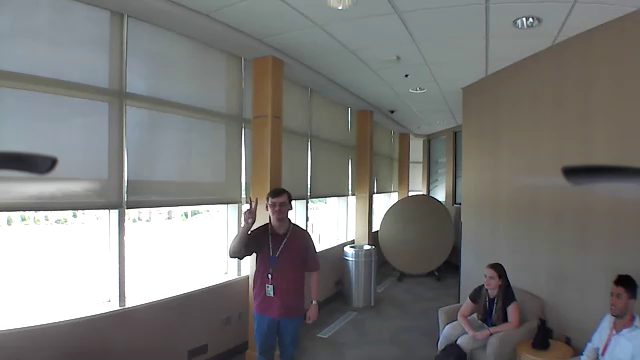peace: (241, 194, 262, 227)
